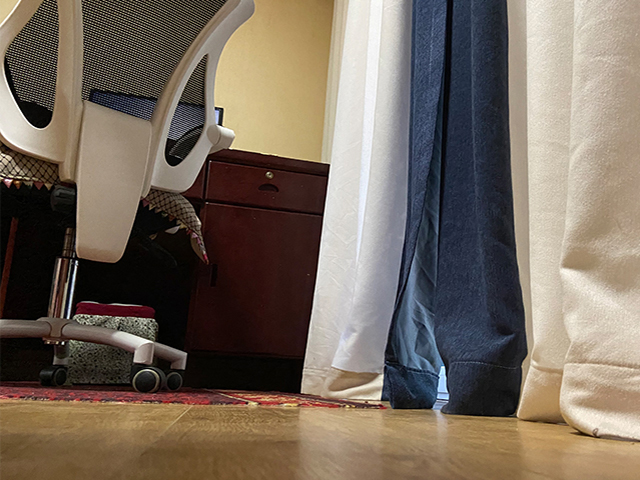carpet: (1, 379, 389, 411)
curtain: (300, 1, 640, 444)
stool: (1, 1, 256, 392)
table: (189, 147, 329, 391)
